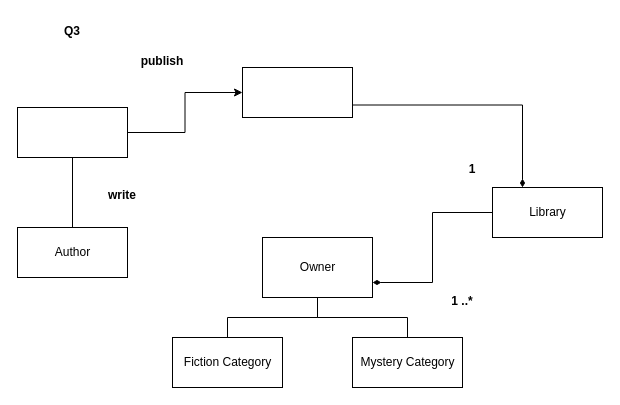
The diagram is 620 pixels wide and 405 high, and some of its shapes have lost their labels. Each missing label, with the centre of its shape:
"Book" goes at [297,92].
"Publisher" goes at [72,132].
